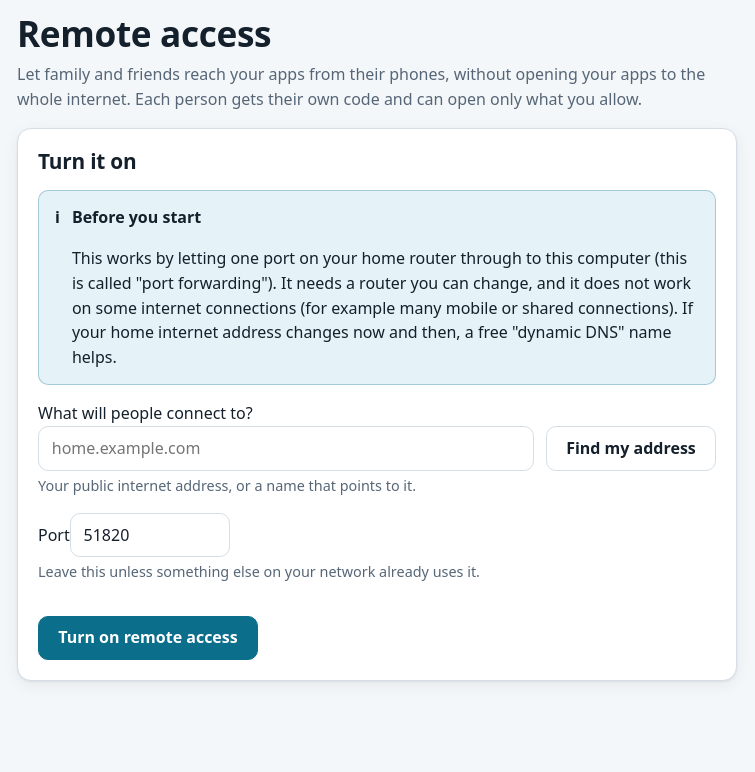
turning remote access on › shows the server's plain reason when the address cannot work
Type "192.168.1.5" into the field labelled "What will people connect to?" at (286,448), box [38,426,534,470]
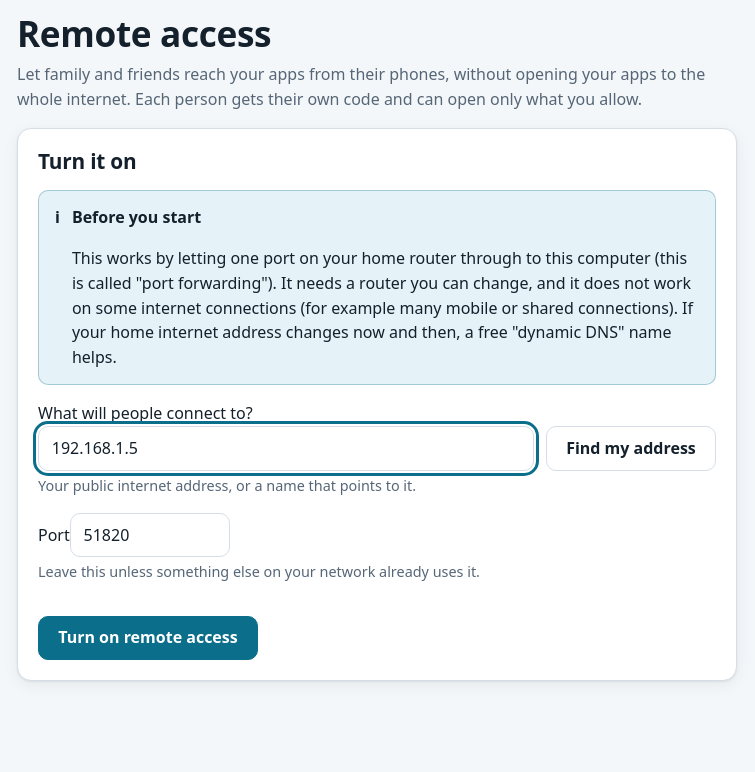
Click the button "Turn on remote access" at (148,638), box [38,616,258,660]
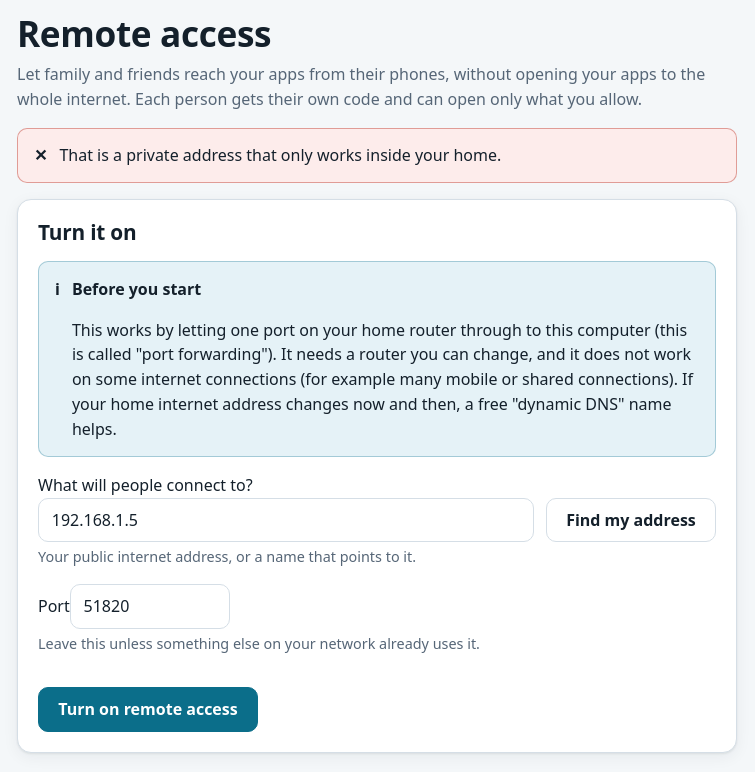
Expected: the message "✕ That is a private address that only works inside your home." is shown, [17,128,737,183]
